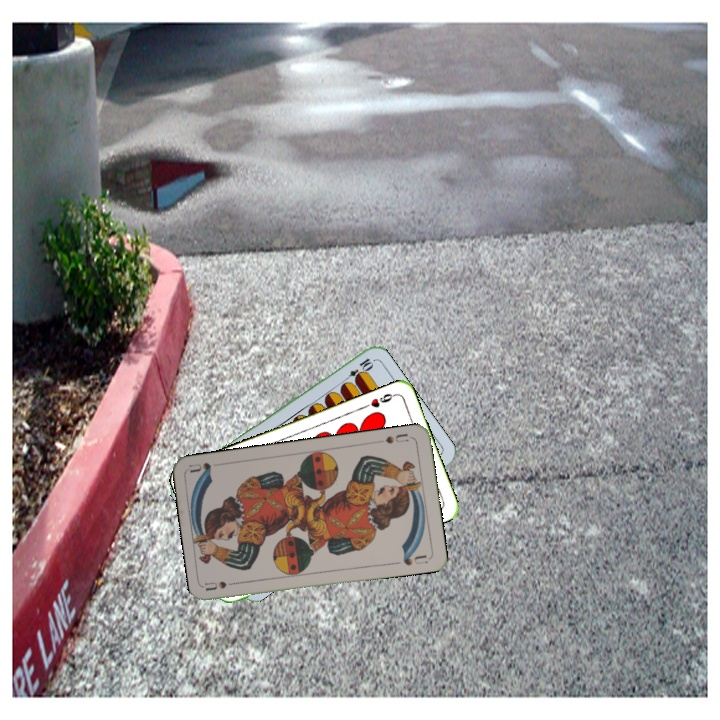E10: (339, 354, 375, 386)
H9: (359, 389, 398, 411)
SU: (203, 577, 244, 593), (381, 429, 414, 446)
